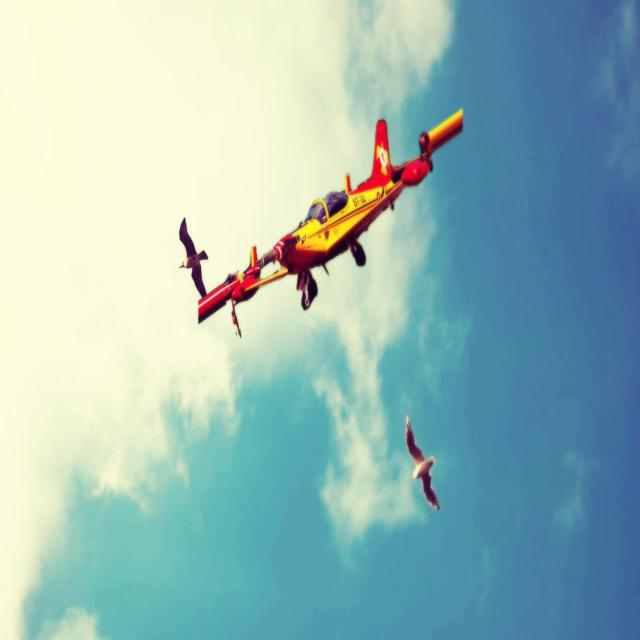airplane: (197, 106, 463, 338)
